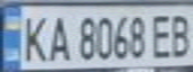0: (93, 12, 115, 61)
6: (112, 11, 133, 60)
8: (72, 11, 96, 61), (127, 11, 151, 60)
A: (45, 10, 72, 63)
B: (166, 10, 193, 58)
E: (148, 10, 175, 60)
K: (18, 10, 51, 63)
